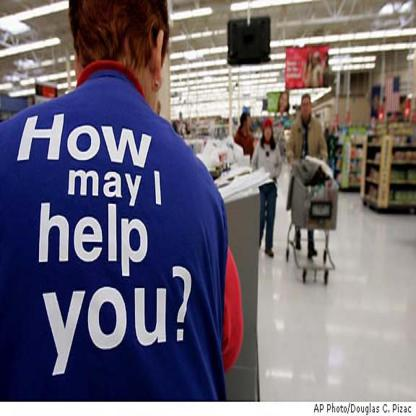face: (303, 97, 311, 118), (280, 95, 288, 112), (265, 126, 272, 142), (247, 117, 252, 132), (374, 96, 379, 109), (157, 106, 161, 116), (183, 124, 186, 134), (310, 55, 313, 63), (315, 58, 318, 64)
